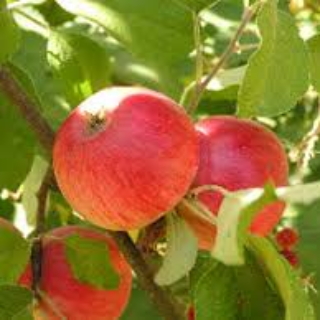tao: (49, 82, 205, 235)
